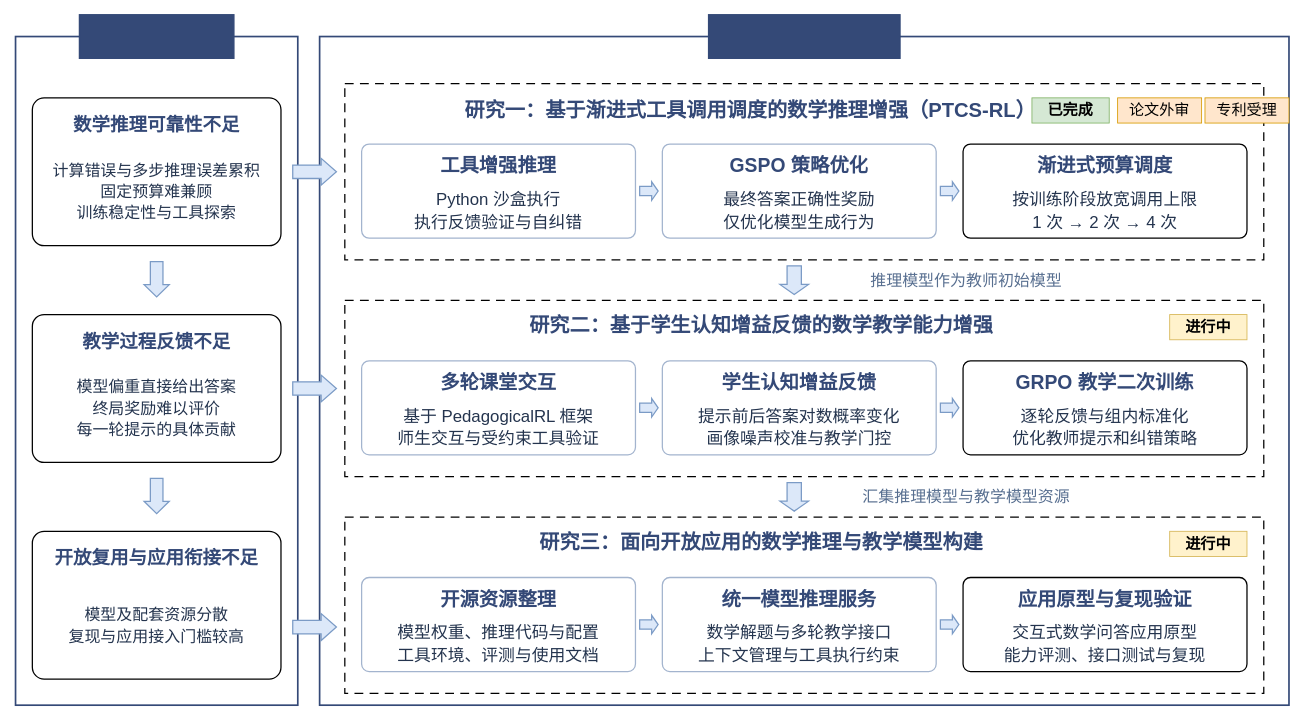
The diagram is 1304 pixels wide and 721 high, and some of its shapes have lost their labels. Here are the shapes that lost their labels. From the top down, the centre of each, then its label:
pixel 156 36: 研究问题
pixel 804 36: 研究内容与技术路线
